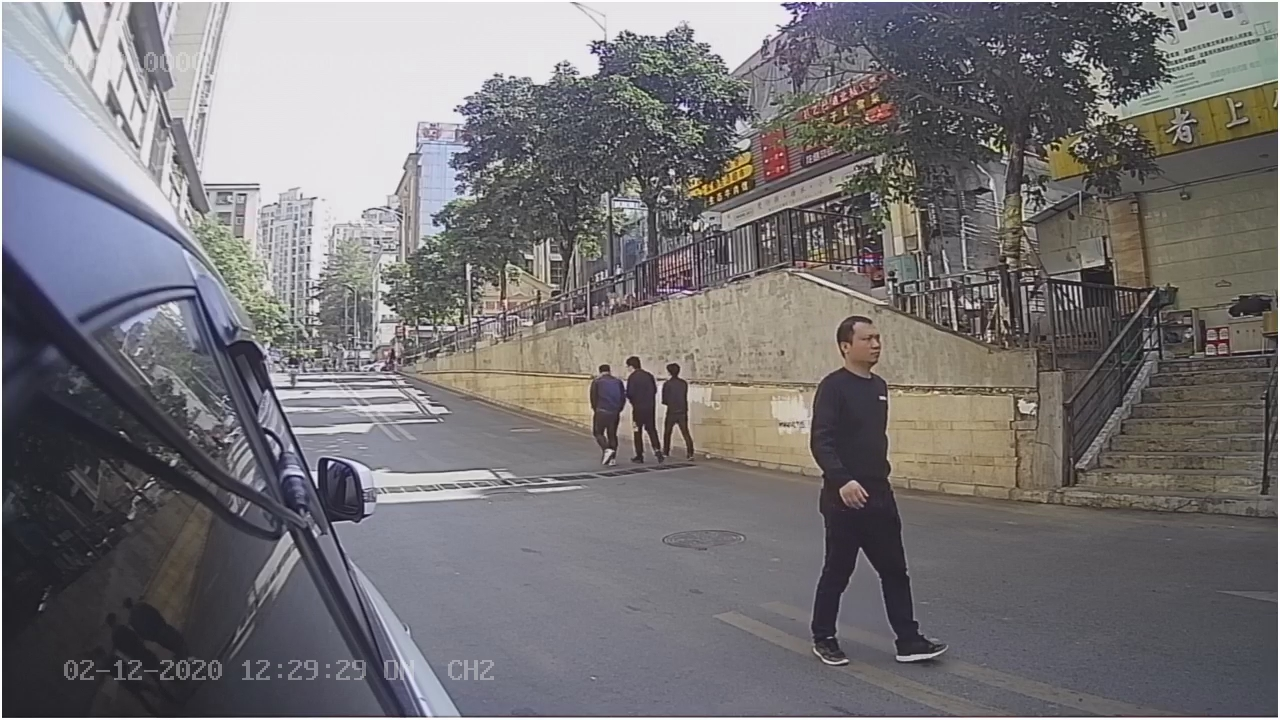person: (800, 305, 953, 668)
